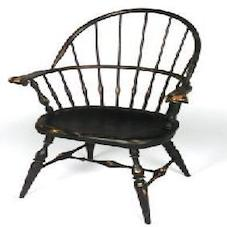chair: (4, 10, 219, 220)
